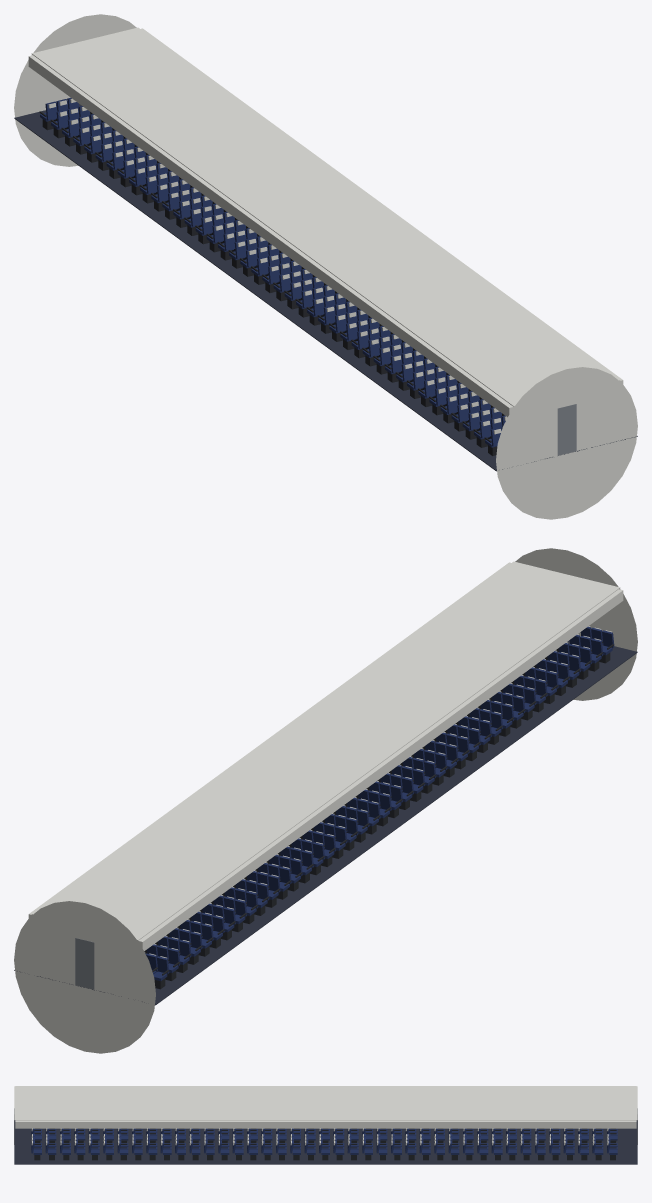
File: lat_trijet_cabin.dae
3 renders of one model, top to bottom at view 1: azimuth 30°, elevation 25°; view 2: azimuth 150°, elevation 25°; view 3: azimuth 270°, elevation 25°, orthographic. The views are drawn at different scales.
Parts seen in each view (by area): view 1: lat_trijet_cabin64; view 2: lat_trijet_cabin64; view 3: lat_trijet_cabin64.
Boxes of the visible parts, x1=… form: lat_trijet_cabin64: x1=14, y1=14, x2=637, y2=519; lat_trijet_cabin64: x1=14, y1=548, x2=637, y2=1053; lat_trijet_cabin64: x1=14, y1=1086, x2=637, y2=1164.
Size of the model in its own units: 5.97 by 35.12 by 5.97.
